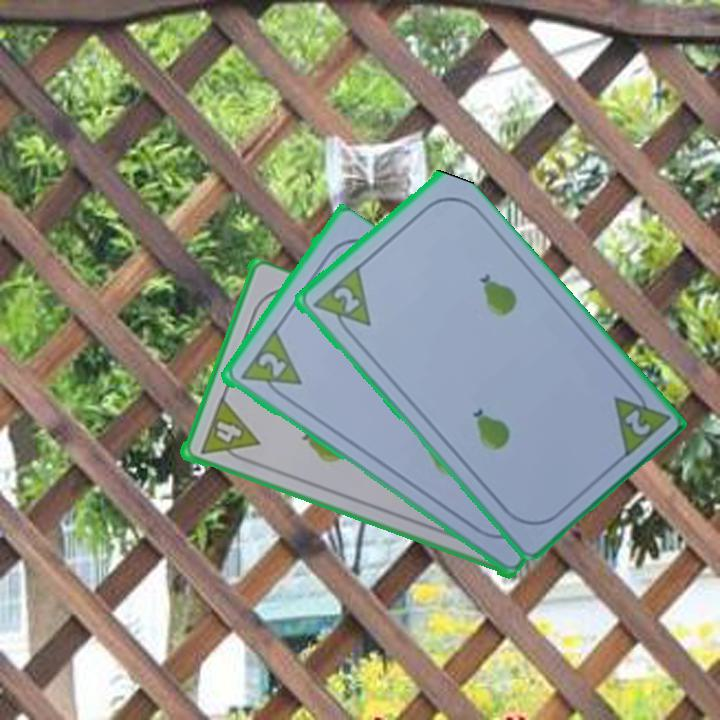2p: (235, 327, 304, 405), (307, 264, 374, 342), (620, 405, 653, 439)
4p: (208, 397, 261, 446)
